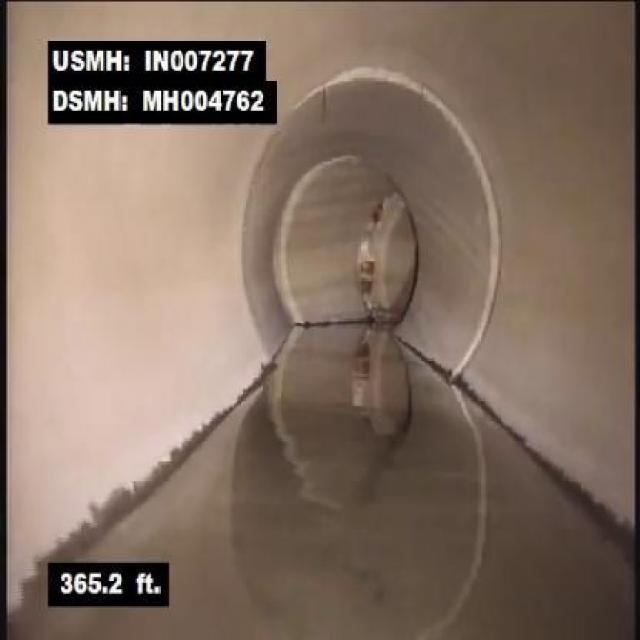Joint offset: (417, 78, 501, 224), (451, 226, 506, 382), (310, 66, 418, 97)
